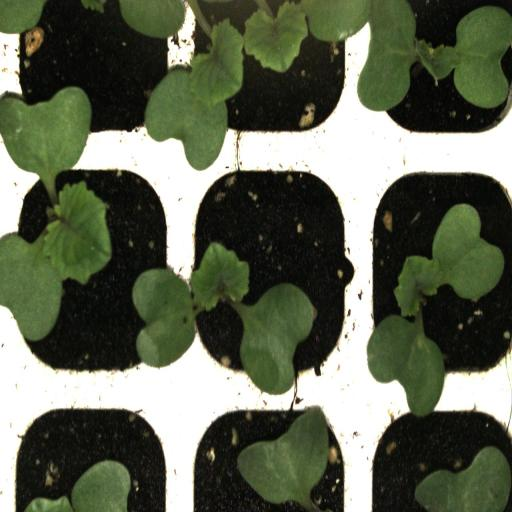Folha: (237, 409, 329, 512), (415, 446, 512, 512), (25, 459, 131, 512)
Germinacao: (181, 158, 356, 391), (9, 157, 181, 392), (357, 160, 512, 396), (183, 0, 355, 155), (356, 0, 512, 157)
